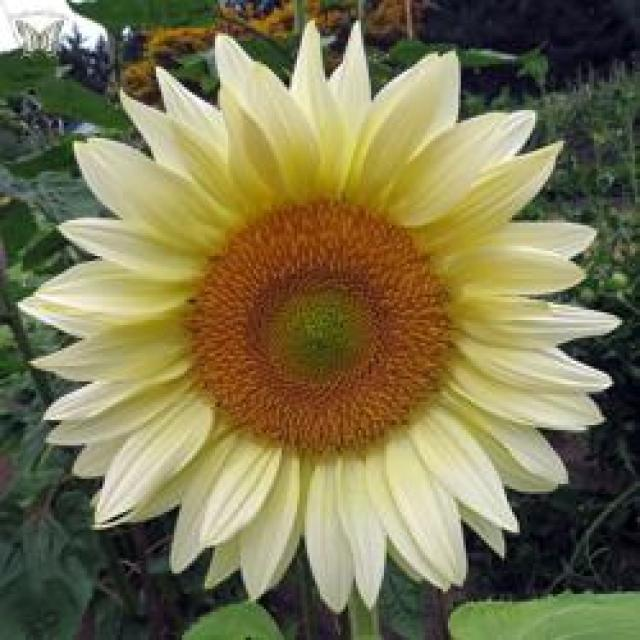sunflower: (14, 9, 626, 621)
